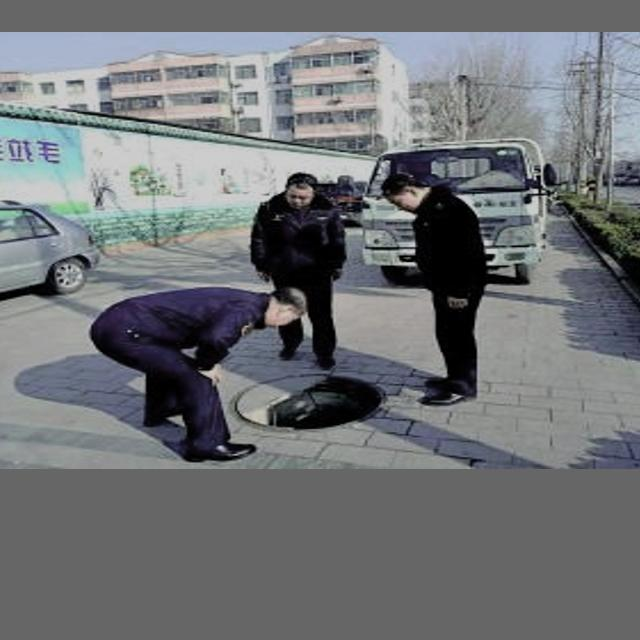broke: (213, 360, 400, 432)
